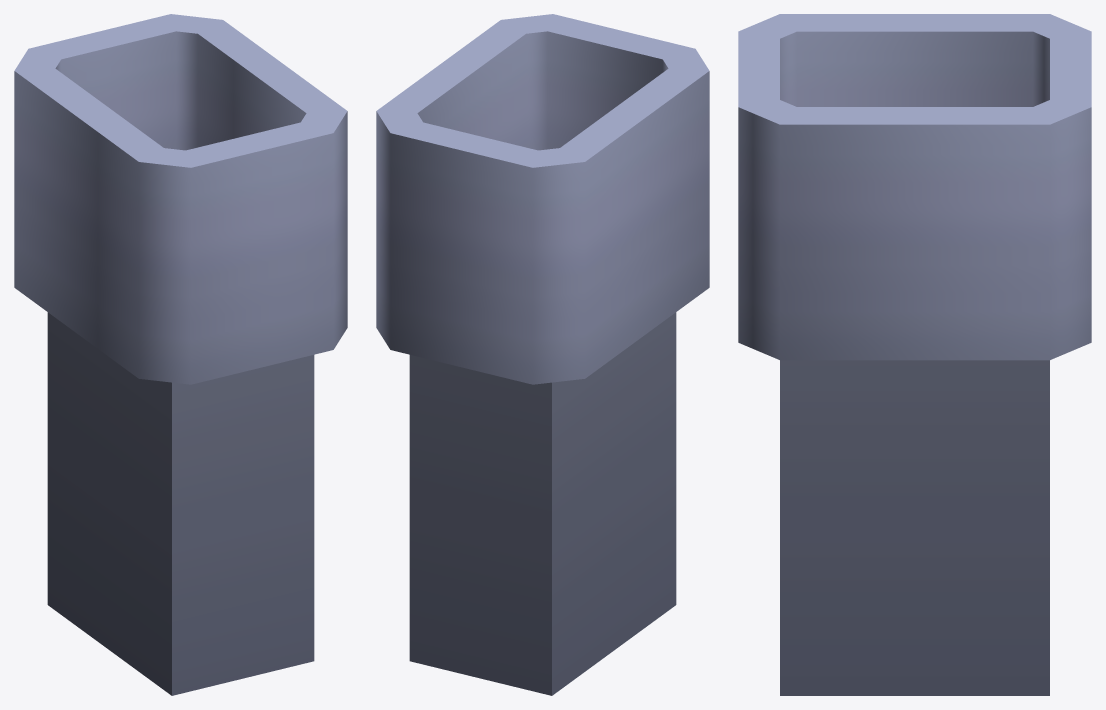
File: chimney-top.glb
3 renders of one model, left to right at view 1: azimuth 30°, elevation 25°; view 2: azimuth 150°, elevation 25°; view 3: azimuth 270°, elevation 25°, orthographic. The views are drawn at different scales.
Visible parts, largest first — view 1: chimney-top; view 2: chimney-top; view 3: chimney-top.
Part boxes in pixels (box(x1,y1,x2,y2)): chimney-top: box(14, 14, 347, 695); chimney-top: box(376, 14, 709, 695); chimney-top: box(738, 14, 1091, 695).
Size of the model in its own units: 0.2519 by 0.625 by 0.34.
Materials: 1 (1 with a texture image).
